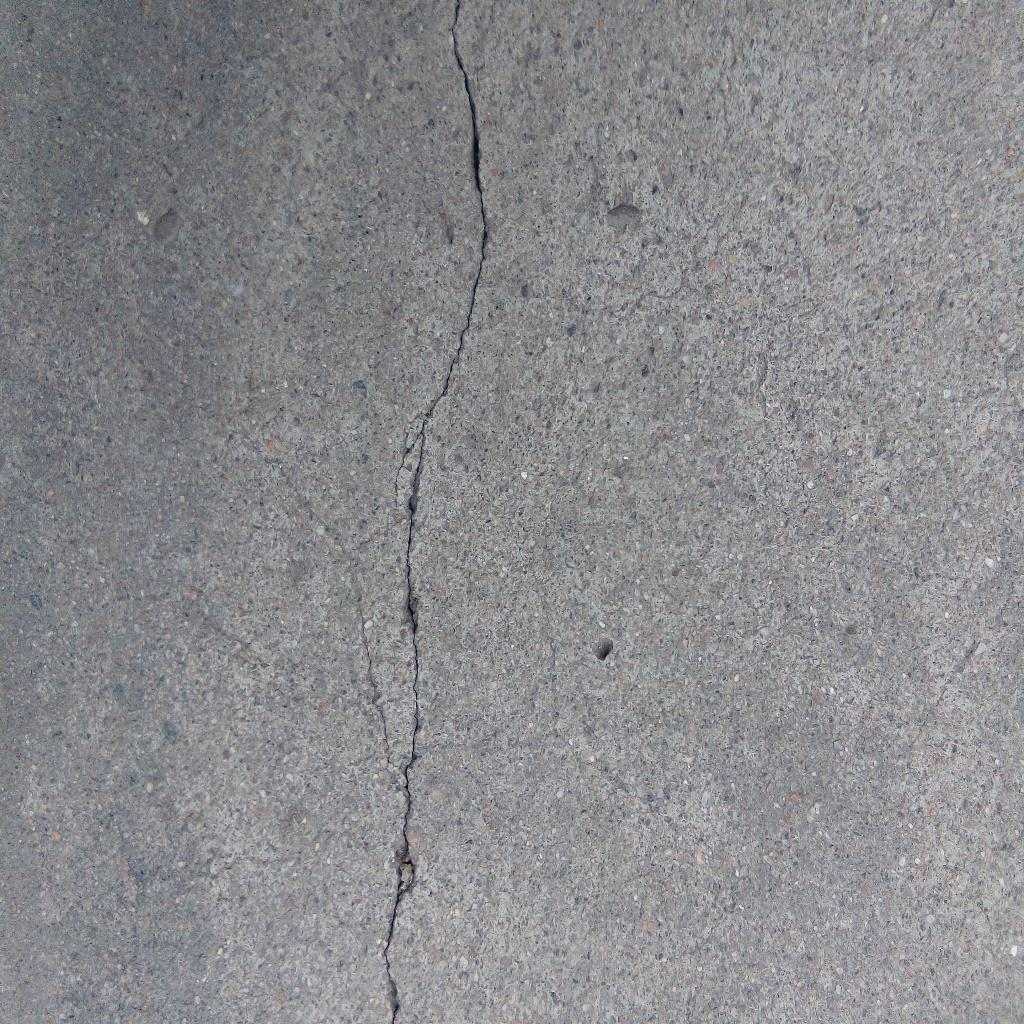Crack: (382, 1, 489, 1024)
